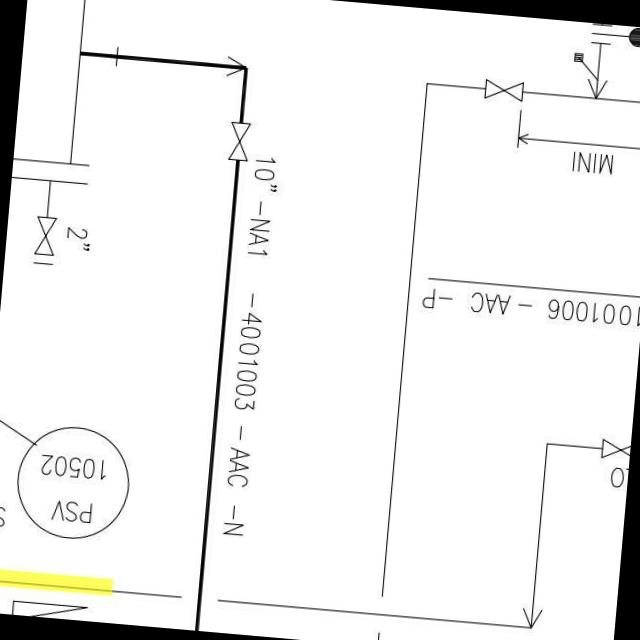GV: (224, 118, 254, 168), (29, 212, 59, 260), (479, 77, 528, 104)
